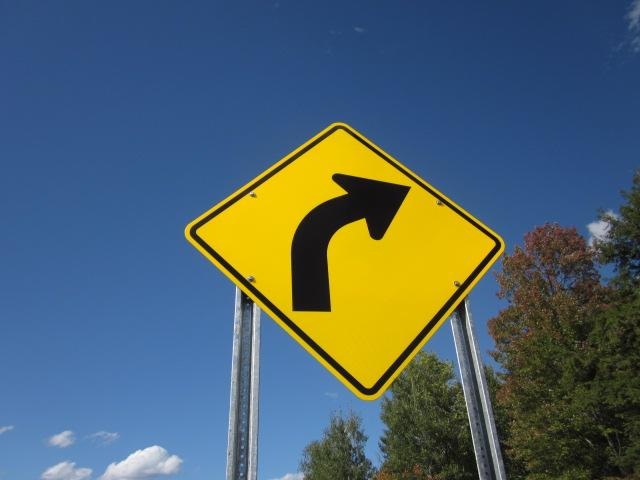warning: (187, 124, 505, 400)
